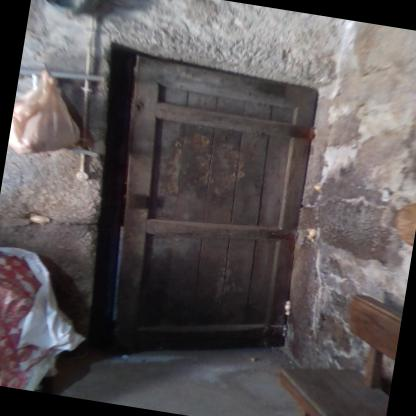closed: (96, 50, 342, 380)
